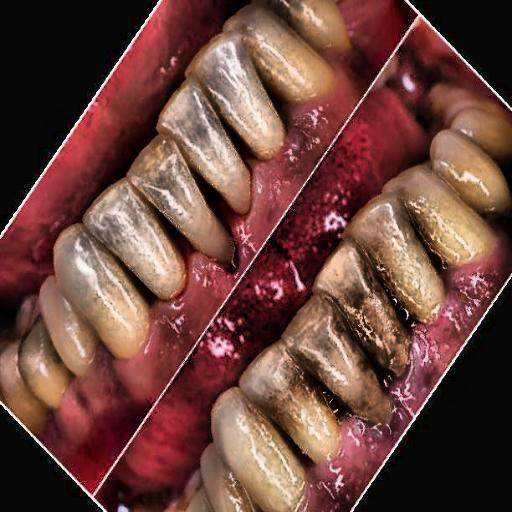Calculus: (242, 187, 470, 484), (133, 67, 318, 277)
